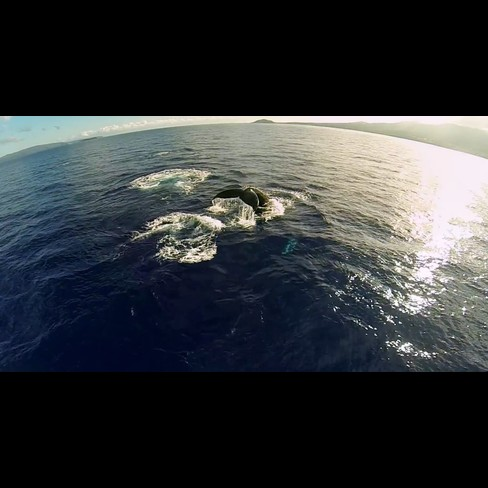hump: (213, 181, 286, 229)
